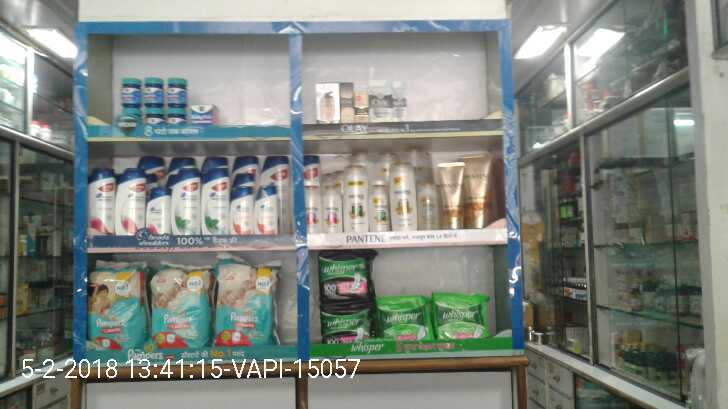vicks: (111, 75, 220, 141)
